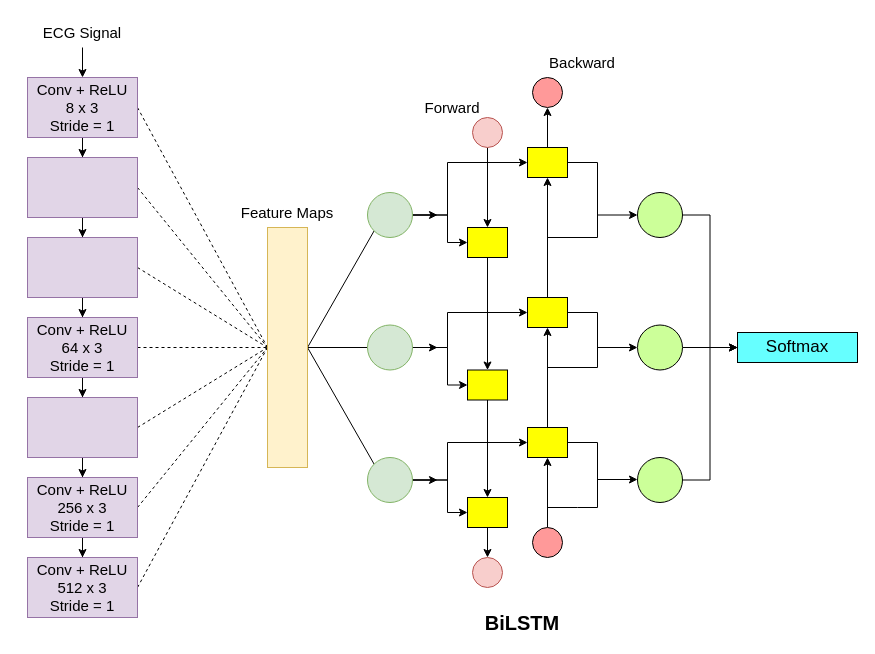
Some shapes in this 875 by 654 pixel diagram are drawn without their labels. Here are the shapes that lost their labels. From the top down, the centre of each, then its label:
point (82, 187): Conv + ReLU 16 x 3 Stride = 1
point (82, 267): Conv + ReLU 32 x 3 Stride = 1
point (82, 427): Conv + ReLU 128 x 3 Stride = 1
